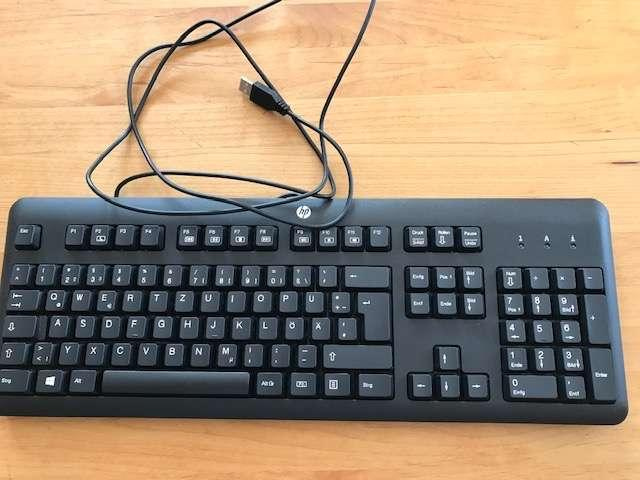0: (265, 263, 285, 286)
1: (33, 261, 54, 284)
2: (59, 261, 79, 285)
3: (84, 262, 104, 284)
4: (110, 262, 130, 284)
5: (135, 263, 156, 285)
6: (161, 263, 181, 285)
7: (187, 263, 208, 285)
8: (213, 263, 233, 286)
9: (239, 263, 259, 286)
a: (47, 313, 68, 336)
accent: (316, 263, 336, 286)
ae: (309, 315, 330, 338)
alt-left: (67, 367, 96, 391)
altgr-right: (254, 370, 282, 394)
b: (162, 341, 183, 364)
c: (109, 340, 131, 364)
caret: (7, 262, 28, 283)
comma: (242, 341, 262, 366)
d: (99, 314, 119, 337)
del: (343, 264, 388, 286)
e: (95, 288, 115, 310)
enter: (354, 289, 392, 339)
f: (125, 313, 144, 336)
g: (151, 314, 171, 336)
h: (178, 314, 198, 337)
hash: (335, 315, 356, 338)
i: (225, 289, 244, 311)
j: (204, 314, 224, 337)
k: (230, 315, 250, 338)
keyboard: (1, 210, 629, 425)
l: (256, 315, 276, 338)
less: (30, 339, 51, 364)
m: (215, 341, 237, 366)
minus: (295, 342, 315, 366)
n: (188, 341, 209, 365)
o: (251, 289, 271, 311)
oe: (283, 315, 303, 338)
p: (277, 289, 296, 311)
plus: (329, 289, 349, 312)
point: (268, 342, 289, 366)
q: (43, 287, 64, 309)
r: (121, 288, 141, 310)
s: (73, 314, 93, 336)
shift-left: (1, 340, 25, 364)
shift-lock: (1, 314, 35, 337)
shift-right: (321, 342, 390, 367)
space: (99, 368, 250, 393)
ss: (290, 264, 310, 286)
strg-left: (1, 367, 28, 391)
strg-right: (355, 371, 392, 396)
t: (147, 288, 166, 310)
tab: (4, 287, 38, 310)
u: (198, 288, 219, 311)
ue: (303, 289, 323, 312)
v: (136, 340, 157, 364)
w: (69, 287, 90, 309)
x: (83, 340, 104, 364)
y: (57, 340, 78, 363)
z: (173, 288, 193, 310)
